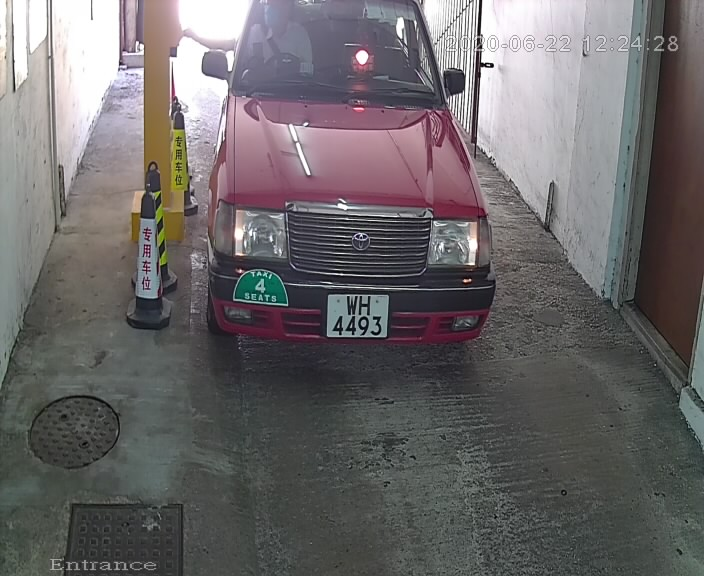taxi: (187, 1, 519, 382)
taxi_mark: (223, 258, 301, 320)
